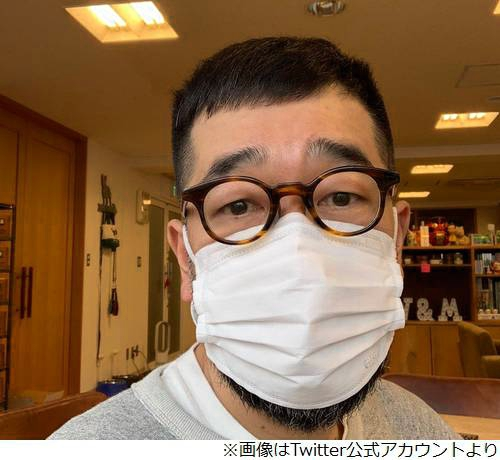mask: (196, 237, 404, 386)
